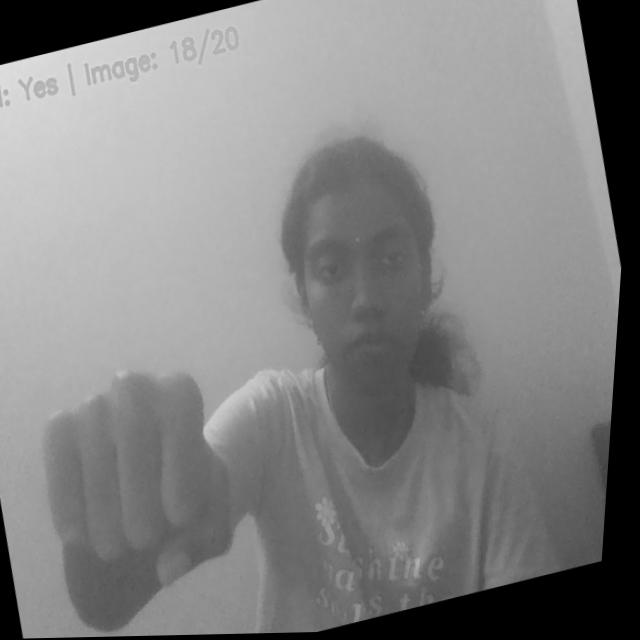Yes: (22, 353, 274, 625)
